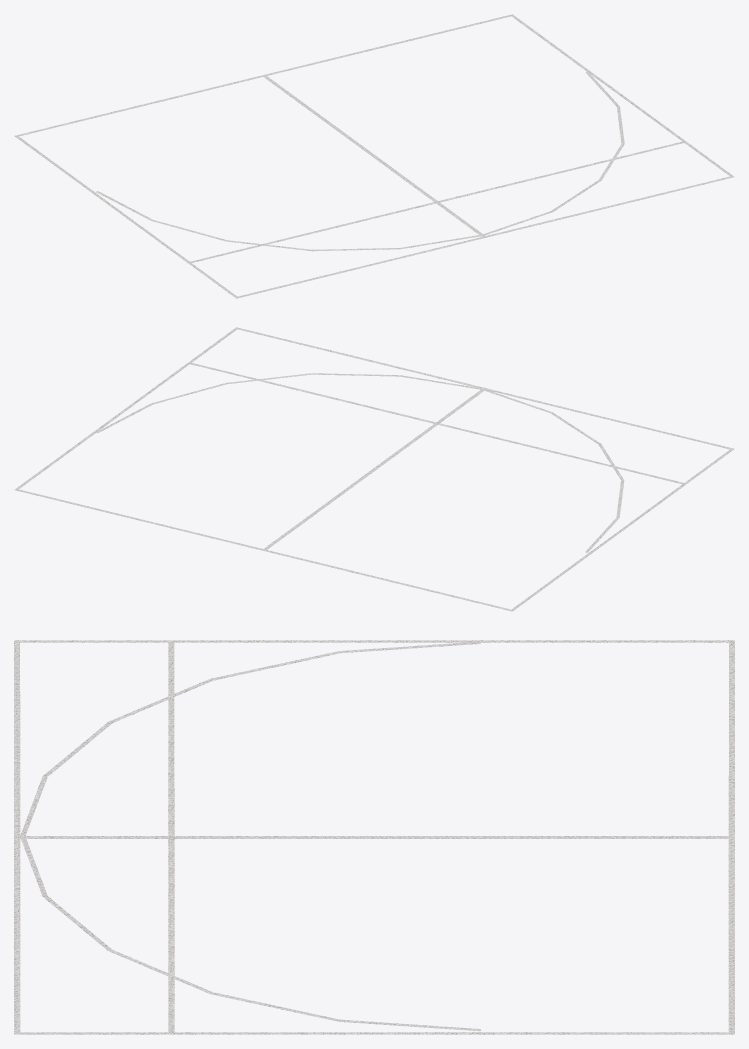
File: kd_connection_world-inner_surface_5_0.glb
3 views of the same model, one above another, from view 1: azimuth 30°, elevation 25°; view 2: azimuth 150°, elevation 25°; view 3: azimuth 270°, elevation 25° (orthographic). The views are drawn at different scales.
Parts seen in each view (by area): view 1: kd_connection_world-inner_surface_5_0; view 2: kd_connection_world-inner_surface_5_0; view 3: kd_connection_world-inner_surface_5_0.
Boxes of the visible parts, box(x1,y1,x2,y2) form: kd_connection_world-inner_surface_5_0: box(14, 14, 734, 298); kd_connection_world-inner_surface_5_0: box(14, 327, 734, 611); kd_connection_world-inner_surface_5_0: box(14, 640, 734, 1034).
Bounding box in the file's own units: 43.96 × 0.0605 × 33.97.
Materials: 1 (1 with a texture image).
